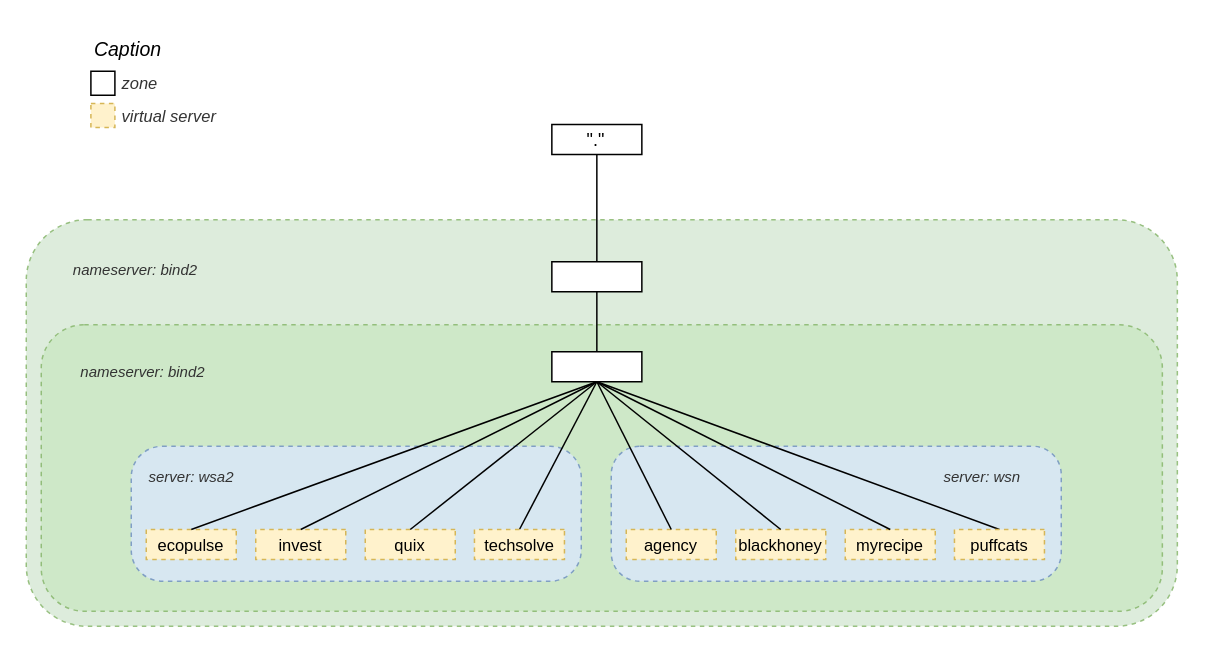
This 1205x653 diagram has some shape labels left out. Each missing label, with the centre of its shape:
.it: the point at 596,276
.theboys: the point at 596,366
